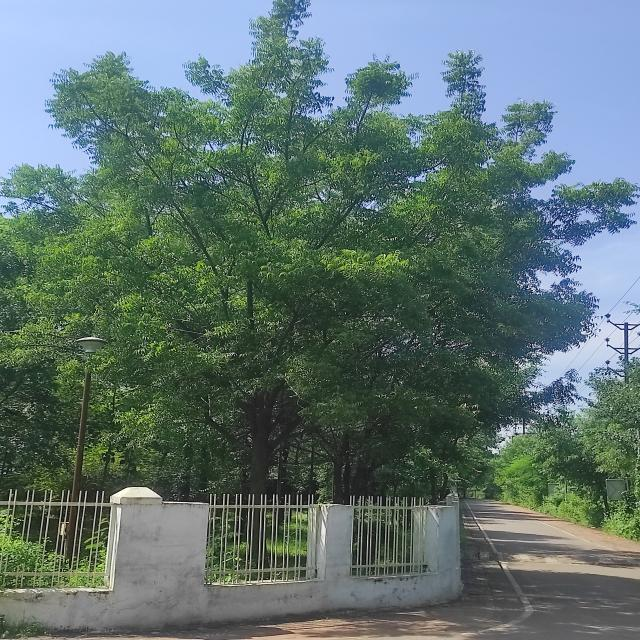Neem-Tree: (61, 41, 507, 457)
